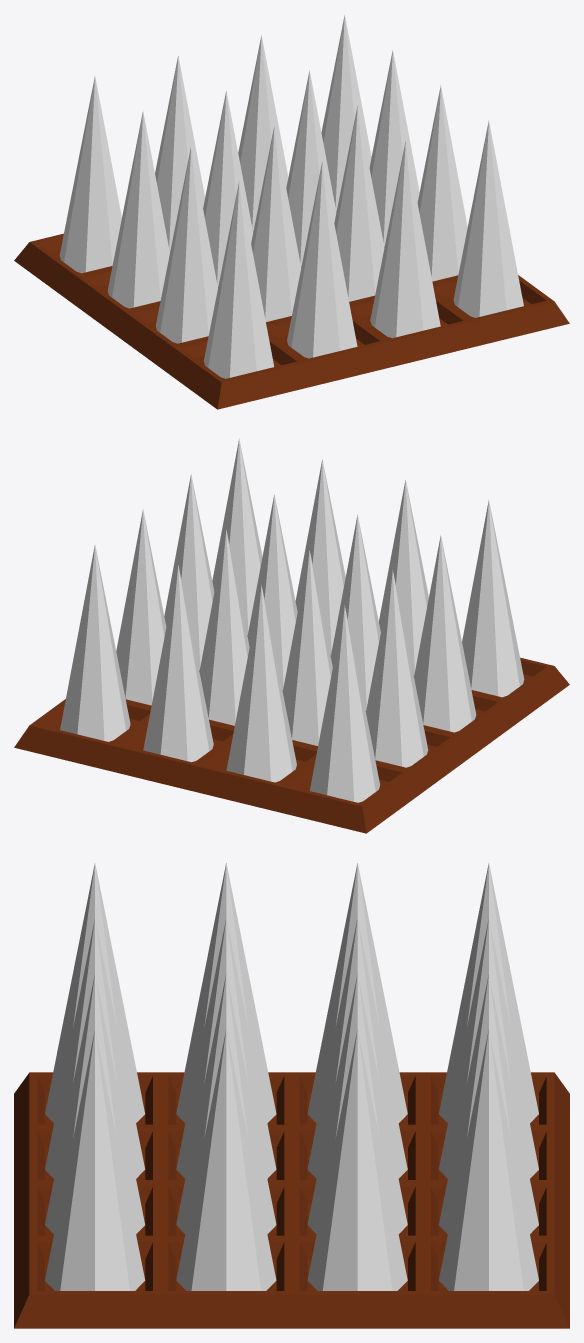
The model's file is traps.fbx.
The picture shows the model from 3 angles, top to bottom: view 1: azimuth 30°, elevation 25°; view 2: azimuth 150°, elevation 25°; view 3: azimuth 270°, elevation 25°; orthographic projection. The views are drawn at different scales.
Visible parts, largest first — view 1: picks, stand; view 2: picks, stand; view 3: picks, stand.
Boxes of the visible parts, bbox=[...] form: picks: bbox=[59, 15, 523, 378]; stand: bbox=[14, 211, 569, 409]; picks: bbox=[60, 439, 524, 802]; stand: bbox=[14, 635, 569, 833]; picks: bbox=[45, 863, 538, 1290]; stand: bbox=[14, 1072, 569, 1328].
Bounding box in the file's own units: 90 × 47.5 × 90.
